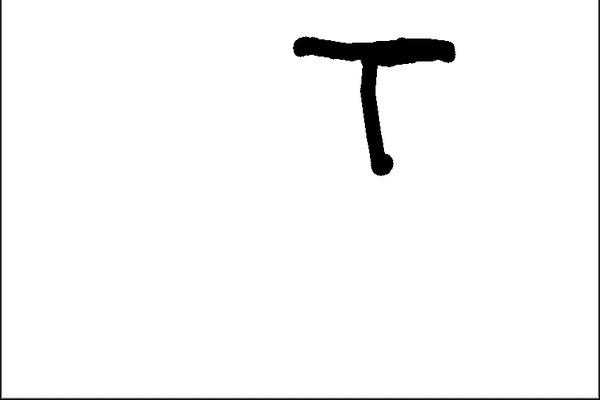T: (294, 22, 465, 173)
